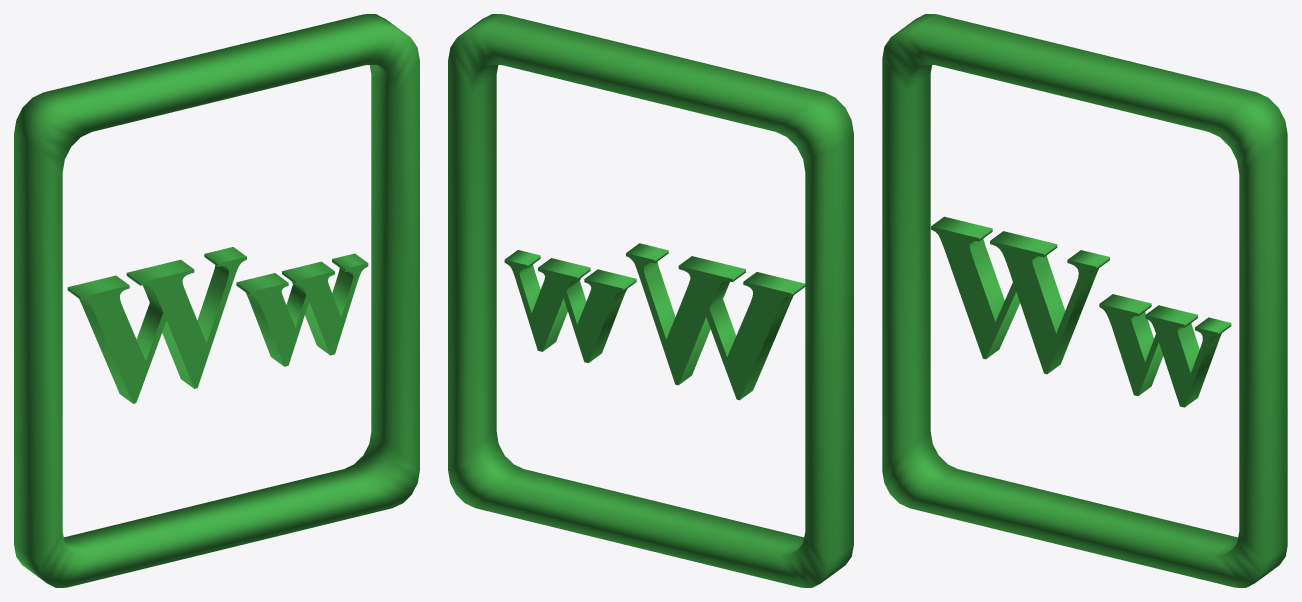
Rendered from Letter_W.gltf.
3 views of the same model, side by side, from view 1: azimuth 30°, elevation 25°; view 2: azimuth 150°, elevation 25°; view 3: azimuth 330°, elevation 25° (orthographic).
Visible parts, largest first — view 1: Letters.024; view 2: Letters.024; view 3: Letters.024.
Part boxes in pixels (x1,y1,x2,y2): Letters.024: [14, 14, 419, 587]; Letters.024: [448, 14, 853, 587]; Letters.024: [882, 14, 1287, 587].
Bounding box in the file's own units: 1.25 × 1.49 × 0.1418.
